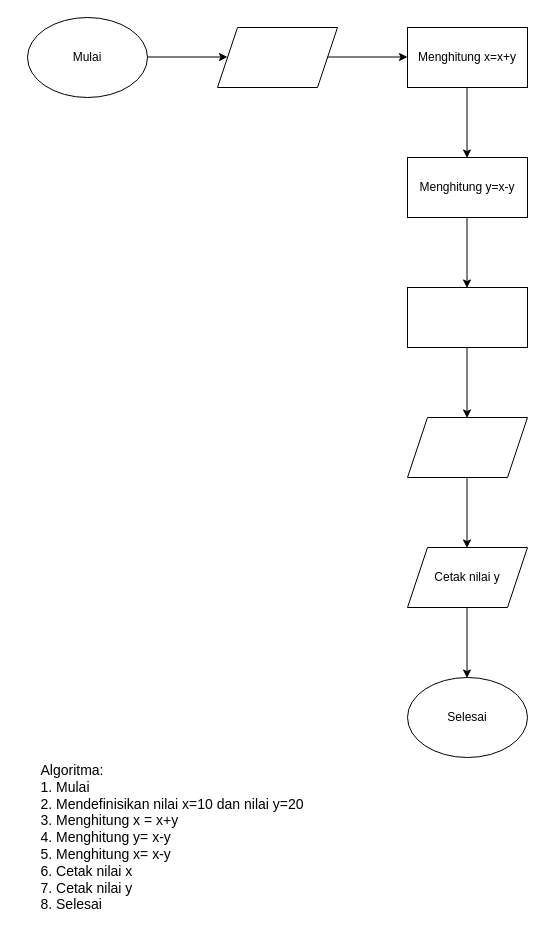
This 545x945 diagram has some shape labels left out. Each missing label, with the centre of its shape:
"Cetak nilai x" goes at point (467, 447).
"Menghitung x=x-y" goes at point (467, 317).
"x=10 dan y=20" goes at point (277, 57).
